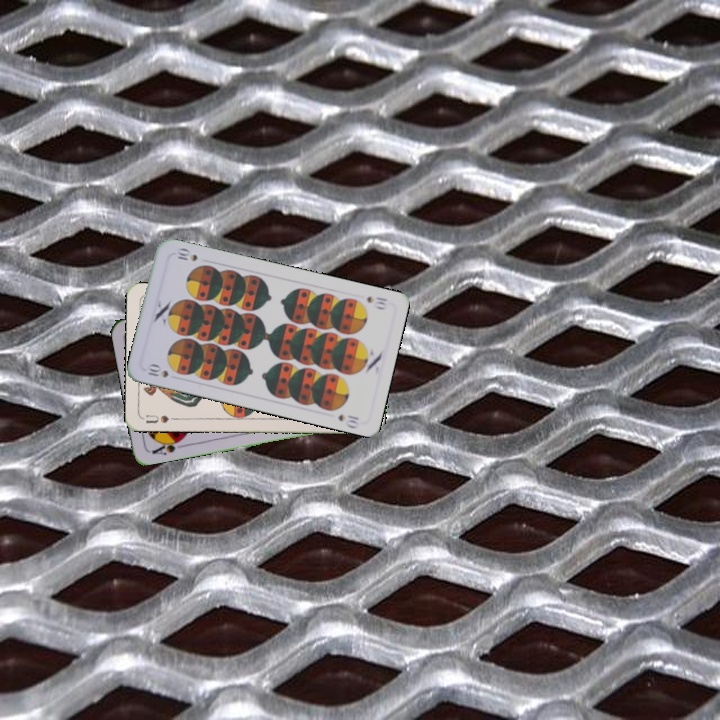S10: (143, 360, 171, 380), (362, 292, 390, 312)
SA: (148, 434, 186, 458)
SU: (140, 411, 180, 426)
